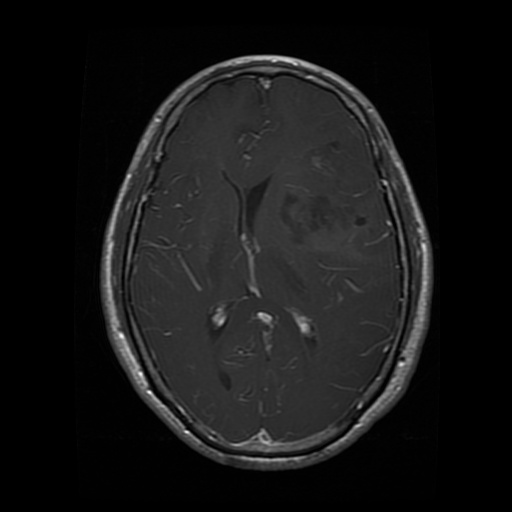glioma: (259, 137, 382, 264)
